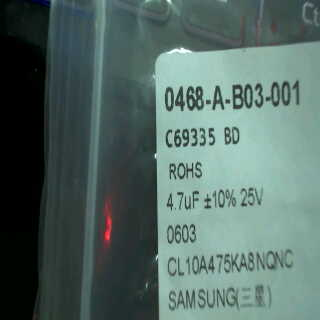4.7uF: (164, 187, 202, 216)
